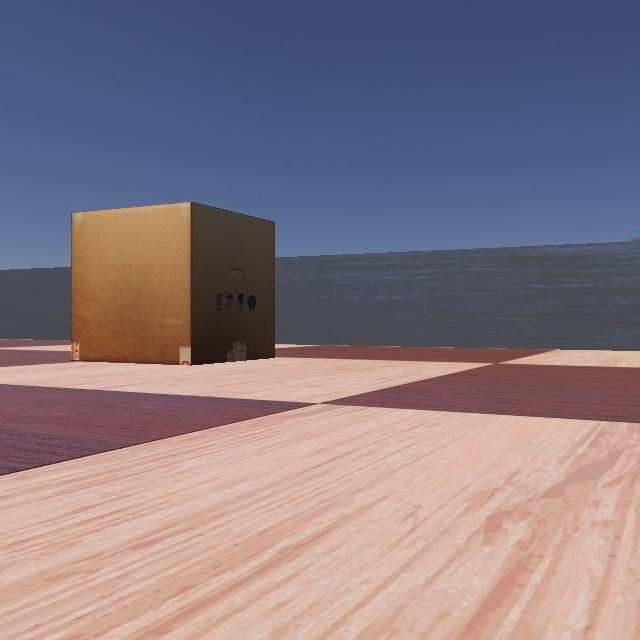cardboard-box: (44, 201, 278, 365)
